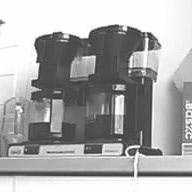not empty coffee: (81, 81, 139, 142)
